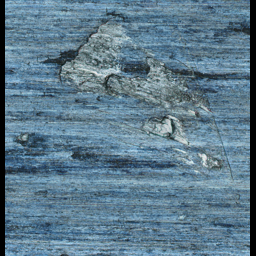d: (42, 9, 224, 176), (13, 131, 41, 149)
